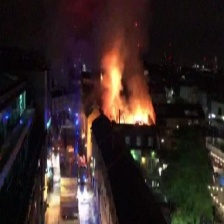fire: (105, 62, 153, 123)
smoke: (96, 3, 140, 62)
